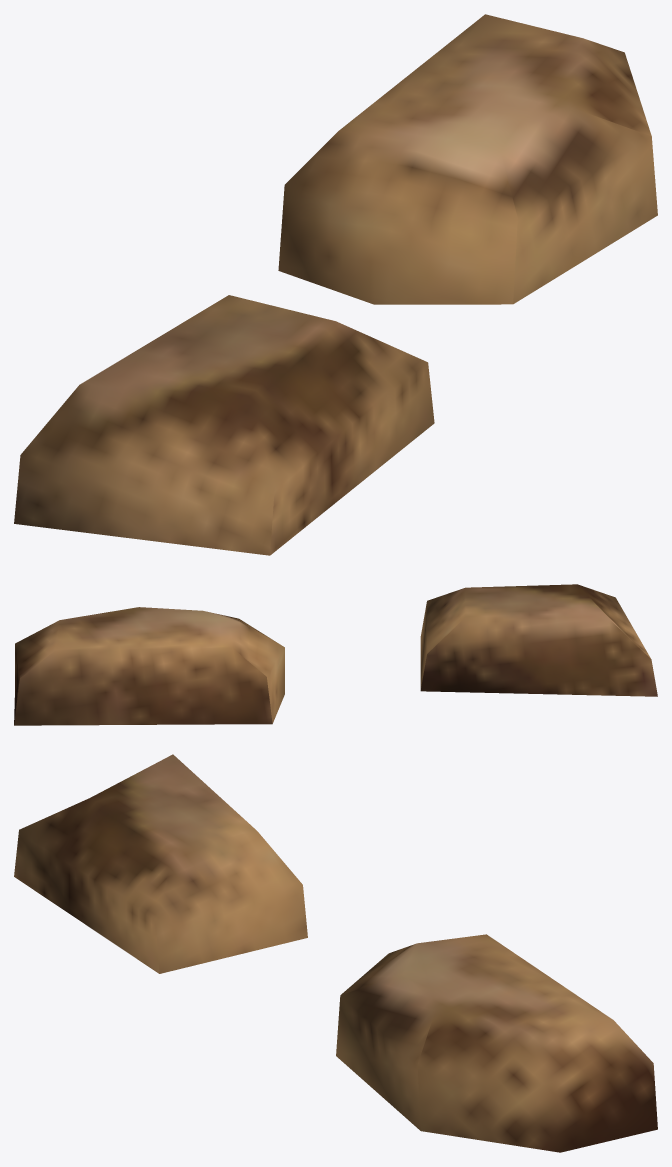
Rendered from shitou19.FBX.
The picture shows the model from 3 angles, top to bottom: view 1: azimuth 30°, elevation 25°; view 2: azimuth 150°, elevation 25°; view 3: azimuth 270°, elevation 25°; orthographic projection. The views are drawn at different scales.
Parts seen in each view (by area): view 1: 对象024; view 2: 对象024; view 3: 对象024.
Part boxes in pixels (x1,y1,x2,y2): 对象024: (14, 14, 657, 555); 对象024: (14, 584, 657, 725); 对象024: (14, 754, 657, 1152).
Bounding box in the file's own units: 69.87 × 9.89 × 58.25.
